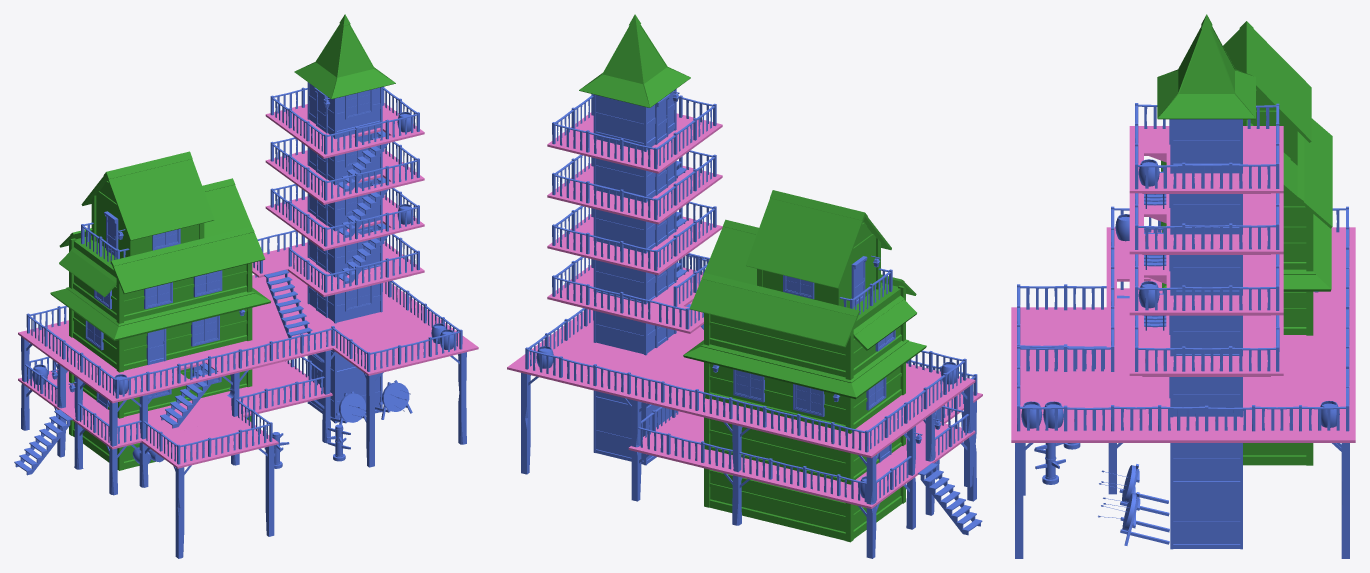
File: lp_tower.fbx
The picture shows the model from 3 angles, left to right: view 1: azimuth 30°, elevation 25°; view 2: azimuth 150°, elevation 25°; view 3: azimuth 270°, elevation 25°; orthographic projection. The views are drawn at different scales.
Visible parts, largest first — view 1: roof_02, roof_03, big_home_001, big_home_004, roof_01, roof_04, big_floor_005, big_floor_003, big_floor_004, big_floor_006, medium_floor_009, medium_floor_006 (+41 smaller); view 2: roof_02, roof_03, big_home_004, big_home_003, roof_01, roof_04, big_home_001, big_home_002, medium_floor_005, tower_floor_009, tower_floor_007, tower_floor_008 (+27 smaller); view 3: big_floor_005, roof_04, medium_floor_005, medium_floor_006, tower_floor_009, tower_floor_011, tower_floor_008, medium_floor_009, tower_floor_007, tower_box_013, roof_03, medium_floor_003 (+43 smaller).
Boxes of the visible parts, bbox=[...] form: roof_02: bbox=[59, 178, 265, 293]; roof_03: bbox=[81, 151, 214, 240]; big_home_001: bbox=[69, 307, 252, 372]; big_home_004: bbox=[69, 235, 252, 323]; roof_01: bbox=[50, 287, 270, 341]; roof_04: bbox=[294, 14, 395, 99]; big_floor_005: bbox=[274, 281, 441, 347]; big_floor_003: bbox=[194, 305, 332, 376]; big_floor_004: bbox=[54, 350, 222, 403]; big_floor_006: bbox=[197, 361, 332, 420]; medium_floor_009: bbox=[141, 416, 278, 468]; medium_floor_006: bbox=[332, 321, 478, 375]; roof_02: bbox=[689, 219, 916, 347]; roof_03: bbox=[745, 190, 891, 288]; big_home_004: bbox=[704, 282, 905, 379]; big_home_003: bbox=[704, 468, 905, 542]; roof_01: bbox=[683, 339, 926, 399]; roof_04: bbox=[579, 14, 690, 107]; big_home_001: bbox=[704, 362, 905, 433]; big_home_002: bbox=[704, 417, 905, 484]; medium_floor_005: bbox=[507, 339, 667, 398]; tower_floor_009: bbox=[547, 112, 722, 173]; tower_floor_007: bbox=[547, 214, 722, 275]; tower_floor_008: bbox=[547, 163, 722, 224]; big_floor_005: bbox=[1106, 369, 1260, 442]; roof_04: bbox=[1157, 14, 1255, 119]; medium_floor_005: bbox=[1260, 369, 1355, 442]; medium_floor_006: bbox=[1011, 369, 1106, 442]; tower_floor_009: bbox=[1129, 126, 1283, 193]; tower_floor_011: bbox=[1129, 315, 1283, 376]; tower_floor_008: bbox=[1129, 193, 1283, 254]; medium_floor_009: bbox=[1011, 307, 1106, 369]; tower_floor_007: bbox=[1129, 254, 1283, 315]; tower_box_013: bbox=[1170, 485, 1242, 549]; roof_03: bbox=[1223, 21, 1311, 142]; medium_floor_003: bbox=[1283, 298, 1355, 369].
Size of what is drawn, in the model's own units: 20500 by 22609 by 12292.
